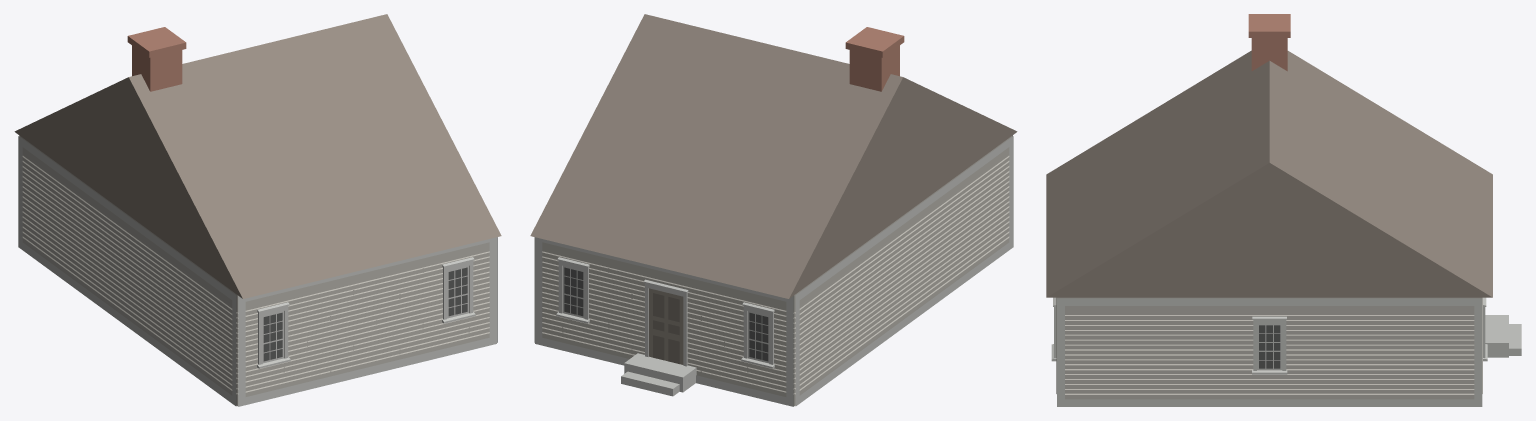
Rendered from recon_1835_blk_west_lake_canal_d5_01__inferred_1835.glb.
The picture shows the model from 3 angles, left to right: view 1: azimuth 30°, elevation 25°; view 2: azimuth 150°, elevation 25°; view 3: azimuth 270°, elevation 25°; orthographic projection. The views are drawn at different scales.
Visible parts, largest first — view 1: recon_1835_blk_west_lake_canal_d5_01__inferred_1835; view 2: recon_1835_blk_west_lake_canal_d5_01__inferred_1835; view 3: recon_1835_blk_west_lake_canal_d5_01__inferred_1835.
Boxes of the visible parts, x1=… form: recon_1835_blk_west_lake_canal_d5_01__inferred_1835: x1=14, y1=14, x2=501, y2=406; recon_1835_blk_west_lake_canal_d5_01__inferred_1835: x1=530, y1=14, x2=1017, y2=406; recon_1835_blk_west_lake_canal_d5_01__inferred_1835: x1=1046, y1=14, x2=1521, y2=406.
Bounding box in the file's own units: 6.98 × 7.07 × 11.12.
